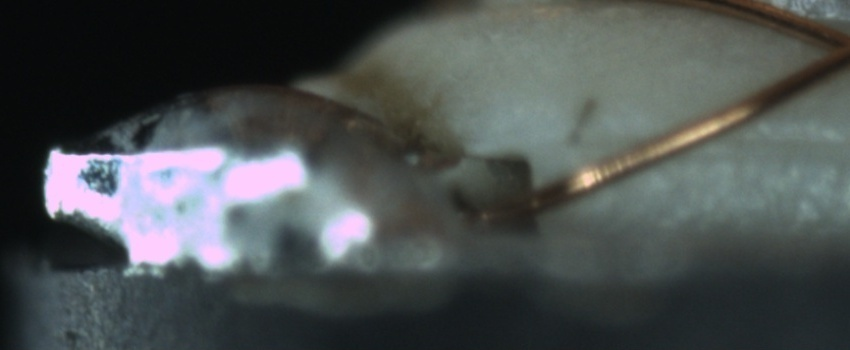CL: (802, 13, 850, 78)
DL: (617, 107, 846, 179)
